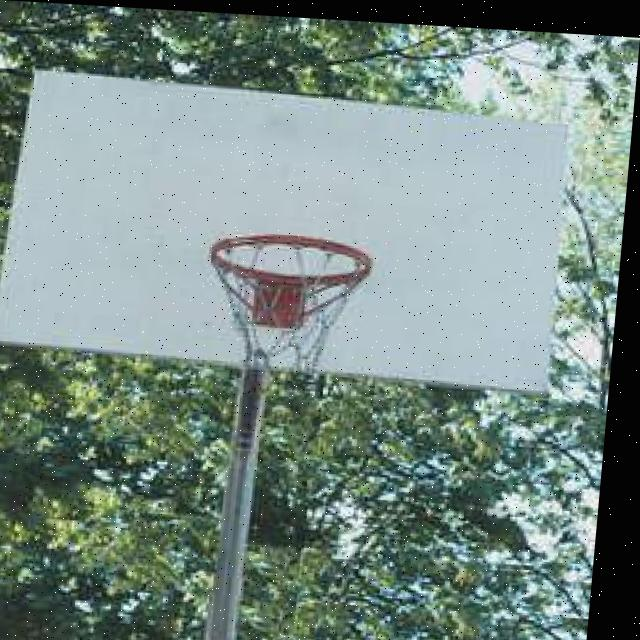hoop: (196, 221, 384, 397)
